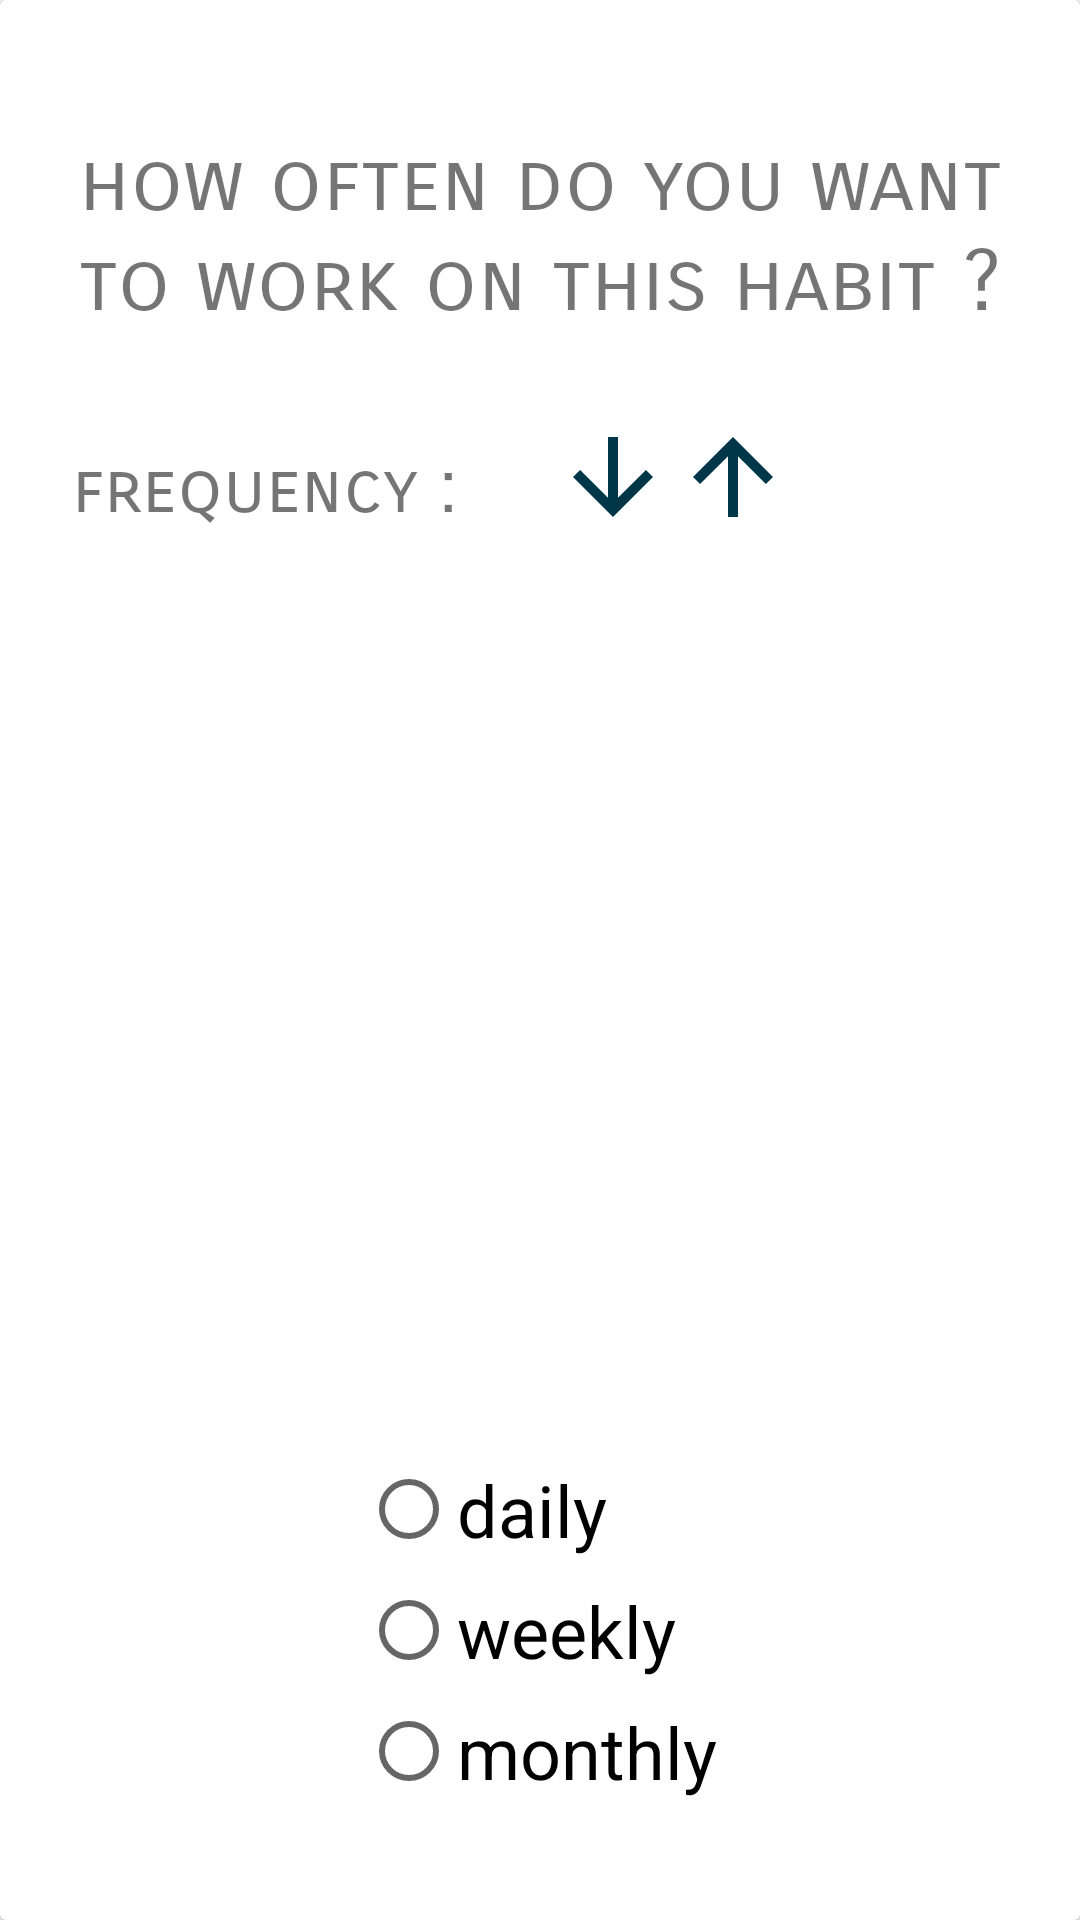

Icon click points for this 1080 x 1920 phone screenshot, format (x,y):
arrow down: (613,477)
arrow up: (733,477)
